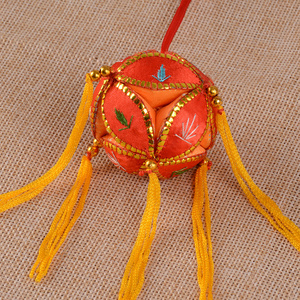xiuqiu: (92, 50, 221, 180)
